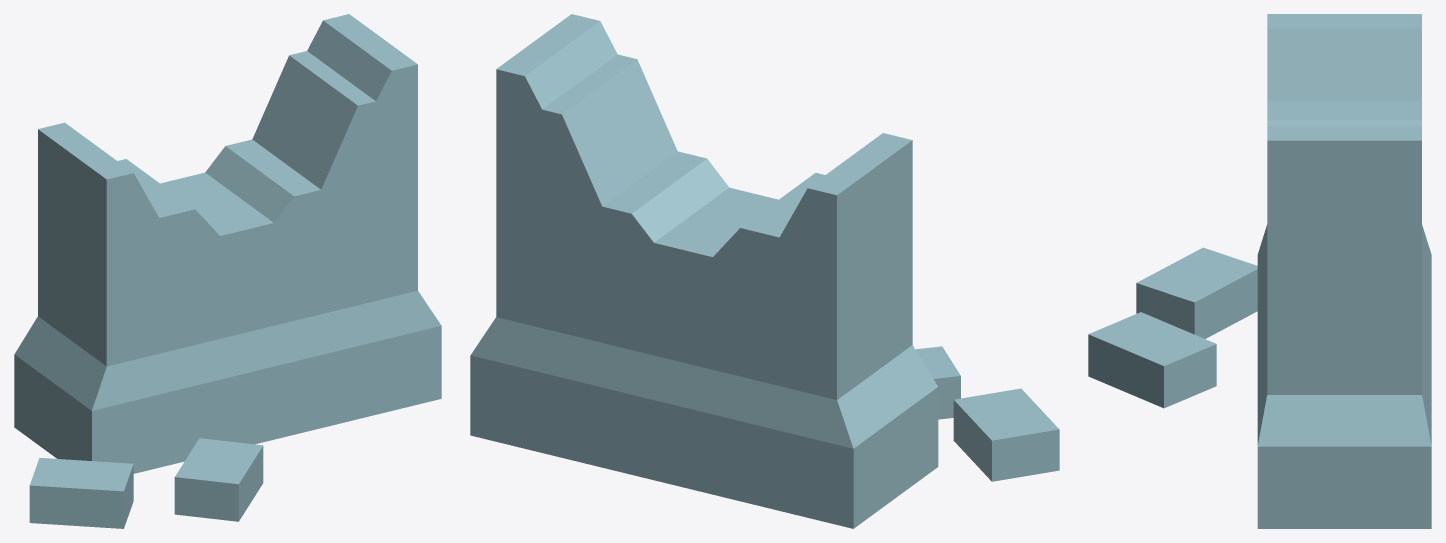
Rendered from gravestoneBroken.dae.
3 renders of one model, left to right at view 1: azimuth 30°, elevation 25°; view 2: azimuth 150°, elevation 25°; view 3: azimuth 270°, elevation 25°, orthographic. The views are drawn at different scales.
Visible parts, largest first — view 1: gravestoneBroken; view 2: gravestoneBroken; view 3: gravestoneBroken.
Part boxes in pixels (box(x1,y1,x2,y2)): gravestoneBroken: box(14, 14, 441, 528); gravestoneBroken: box(470, 14, 1059, 528); gravestoneBroken: box(1088, 14, 1431, 528).
Size of the model in its own units: 0.4864 by 0.3581 by 0.2949.
